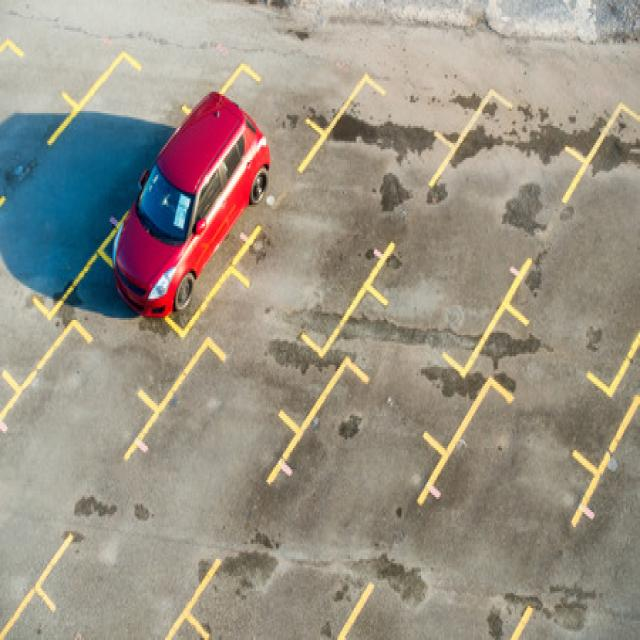libre: (33, 328, 306, 633), (184, 360, 451, 640), (339, 368, 604, 638), (368, 85, 596, 381), (224, 82, 456, 366), (0, 43, 202, 330), (2, 303, 165, 638), (499, 99, 639, 402)
ocupado: (95, 56, 325, 347)
